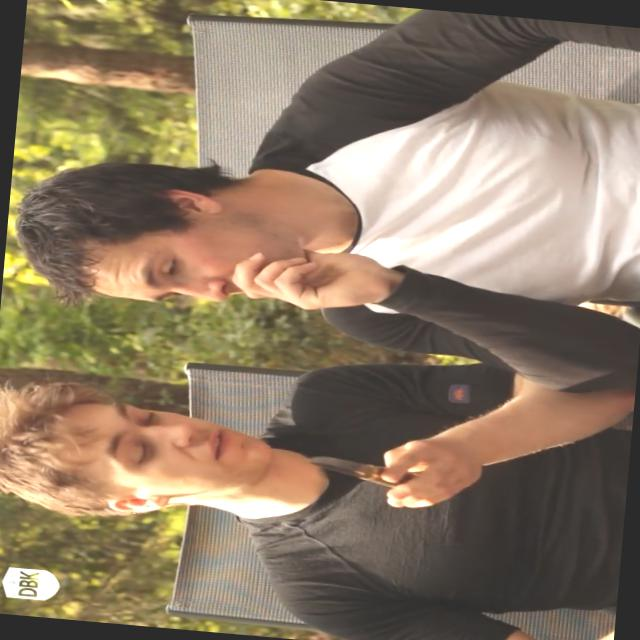knife: (290, 434, 448, 518)
